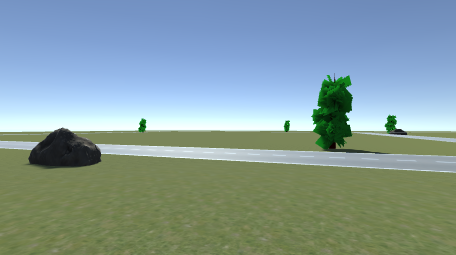rock: (28, 127, 102, 168)
tree: (312, 74, 352, 153), (137, 117, 147, 134), (386, 114, 395, 130), (284, 120, 289, 133)
